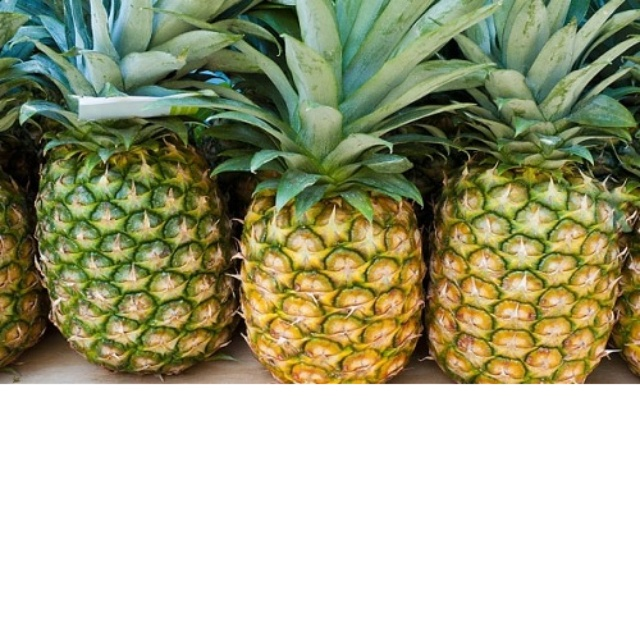thom: (22, 106, 231, 381), (420, 135, 625, 384), (223, 153, 425, 381)
